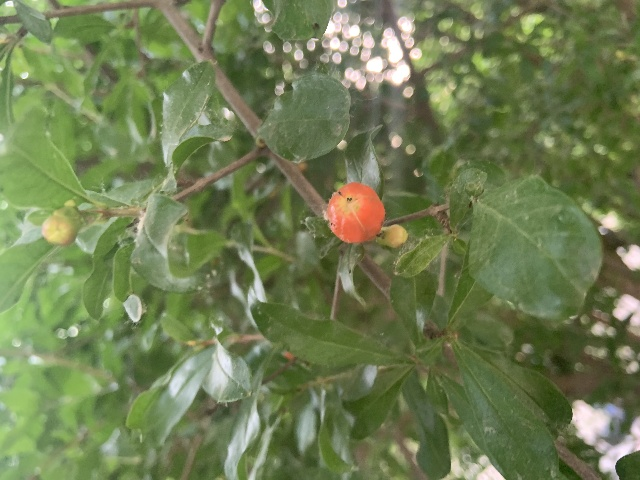bud: (326, 182, 385, 244), (41, 206, 81, 244), (375, 224, 407, 247)
